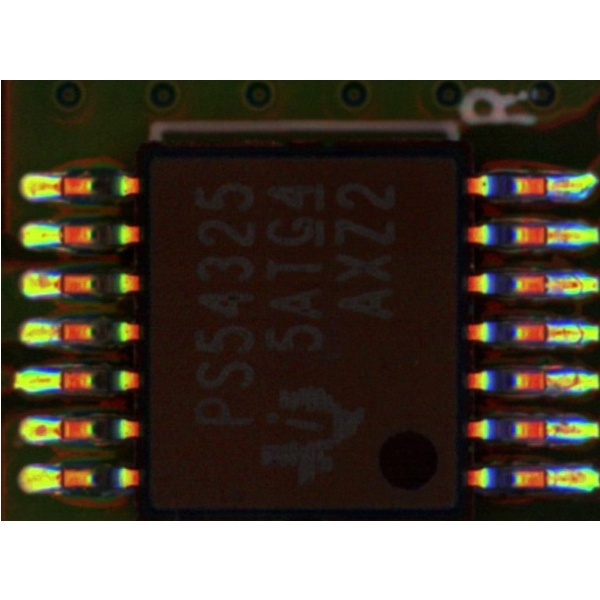Bad_podu: (536, 229, 561, 243), (52, 278, 74, 292), (48, 181, 72, 193), (535, 279, 559, 291), (50, 425, 72, 437), (533, 475, 559, 485), (50, 325, 71, 337), (535, 329, 560, 339), (534, 377, 558, 387)
